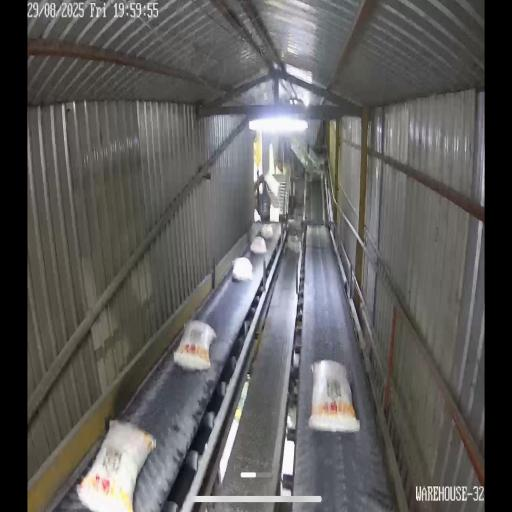c-belt-sack-count: (77, 420, 155, 511), (309, 360, 360, 432), (174, 321, 216, 369)
